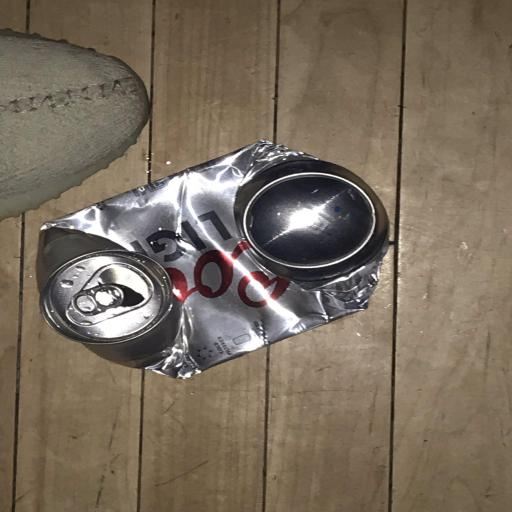can: (36, 139, 394, 381)
pop tab: (72, 284, 127, 316)
